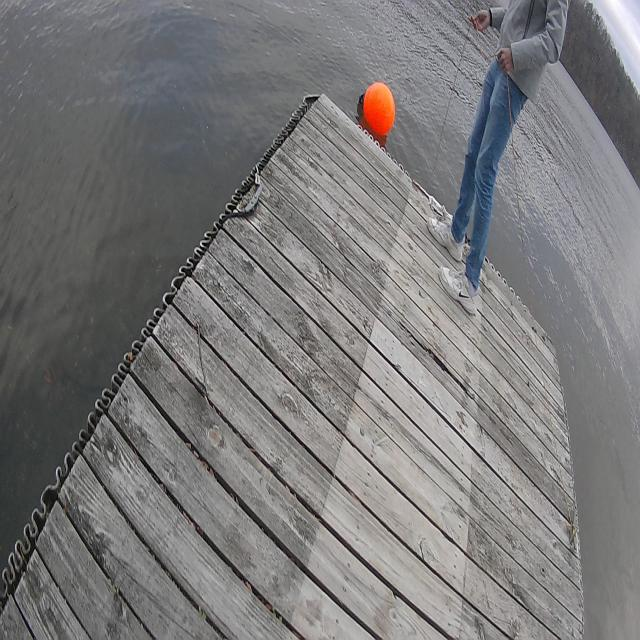Buoy: (358, 75, 397, 146)
